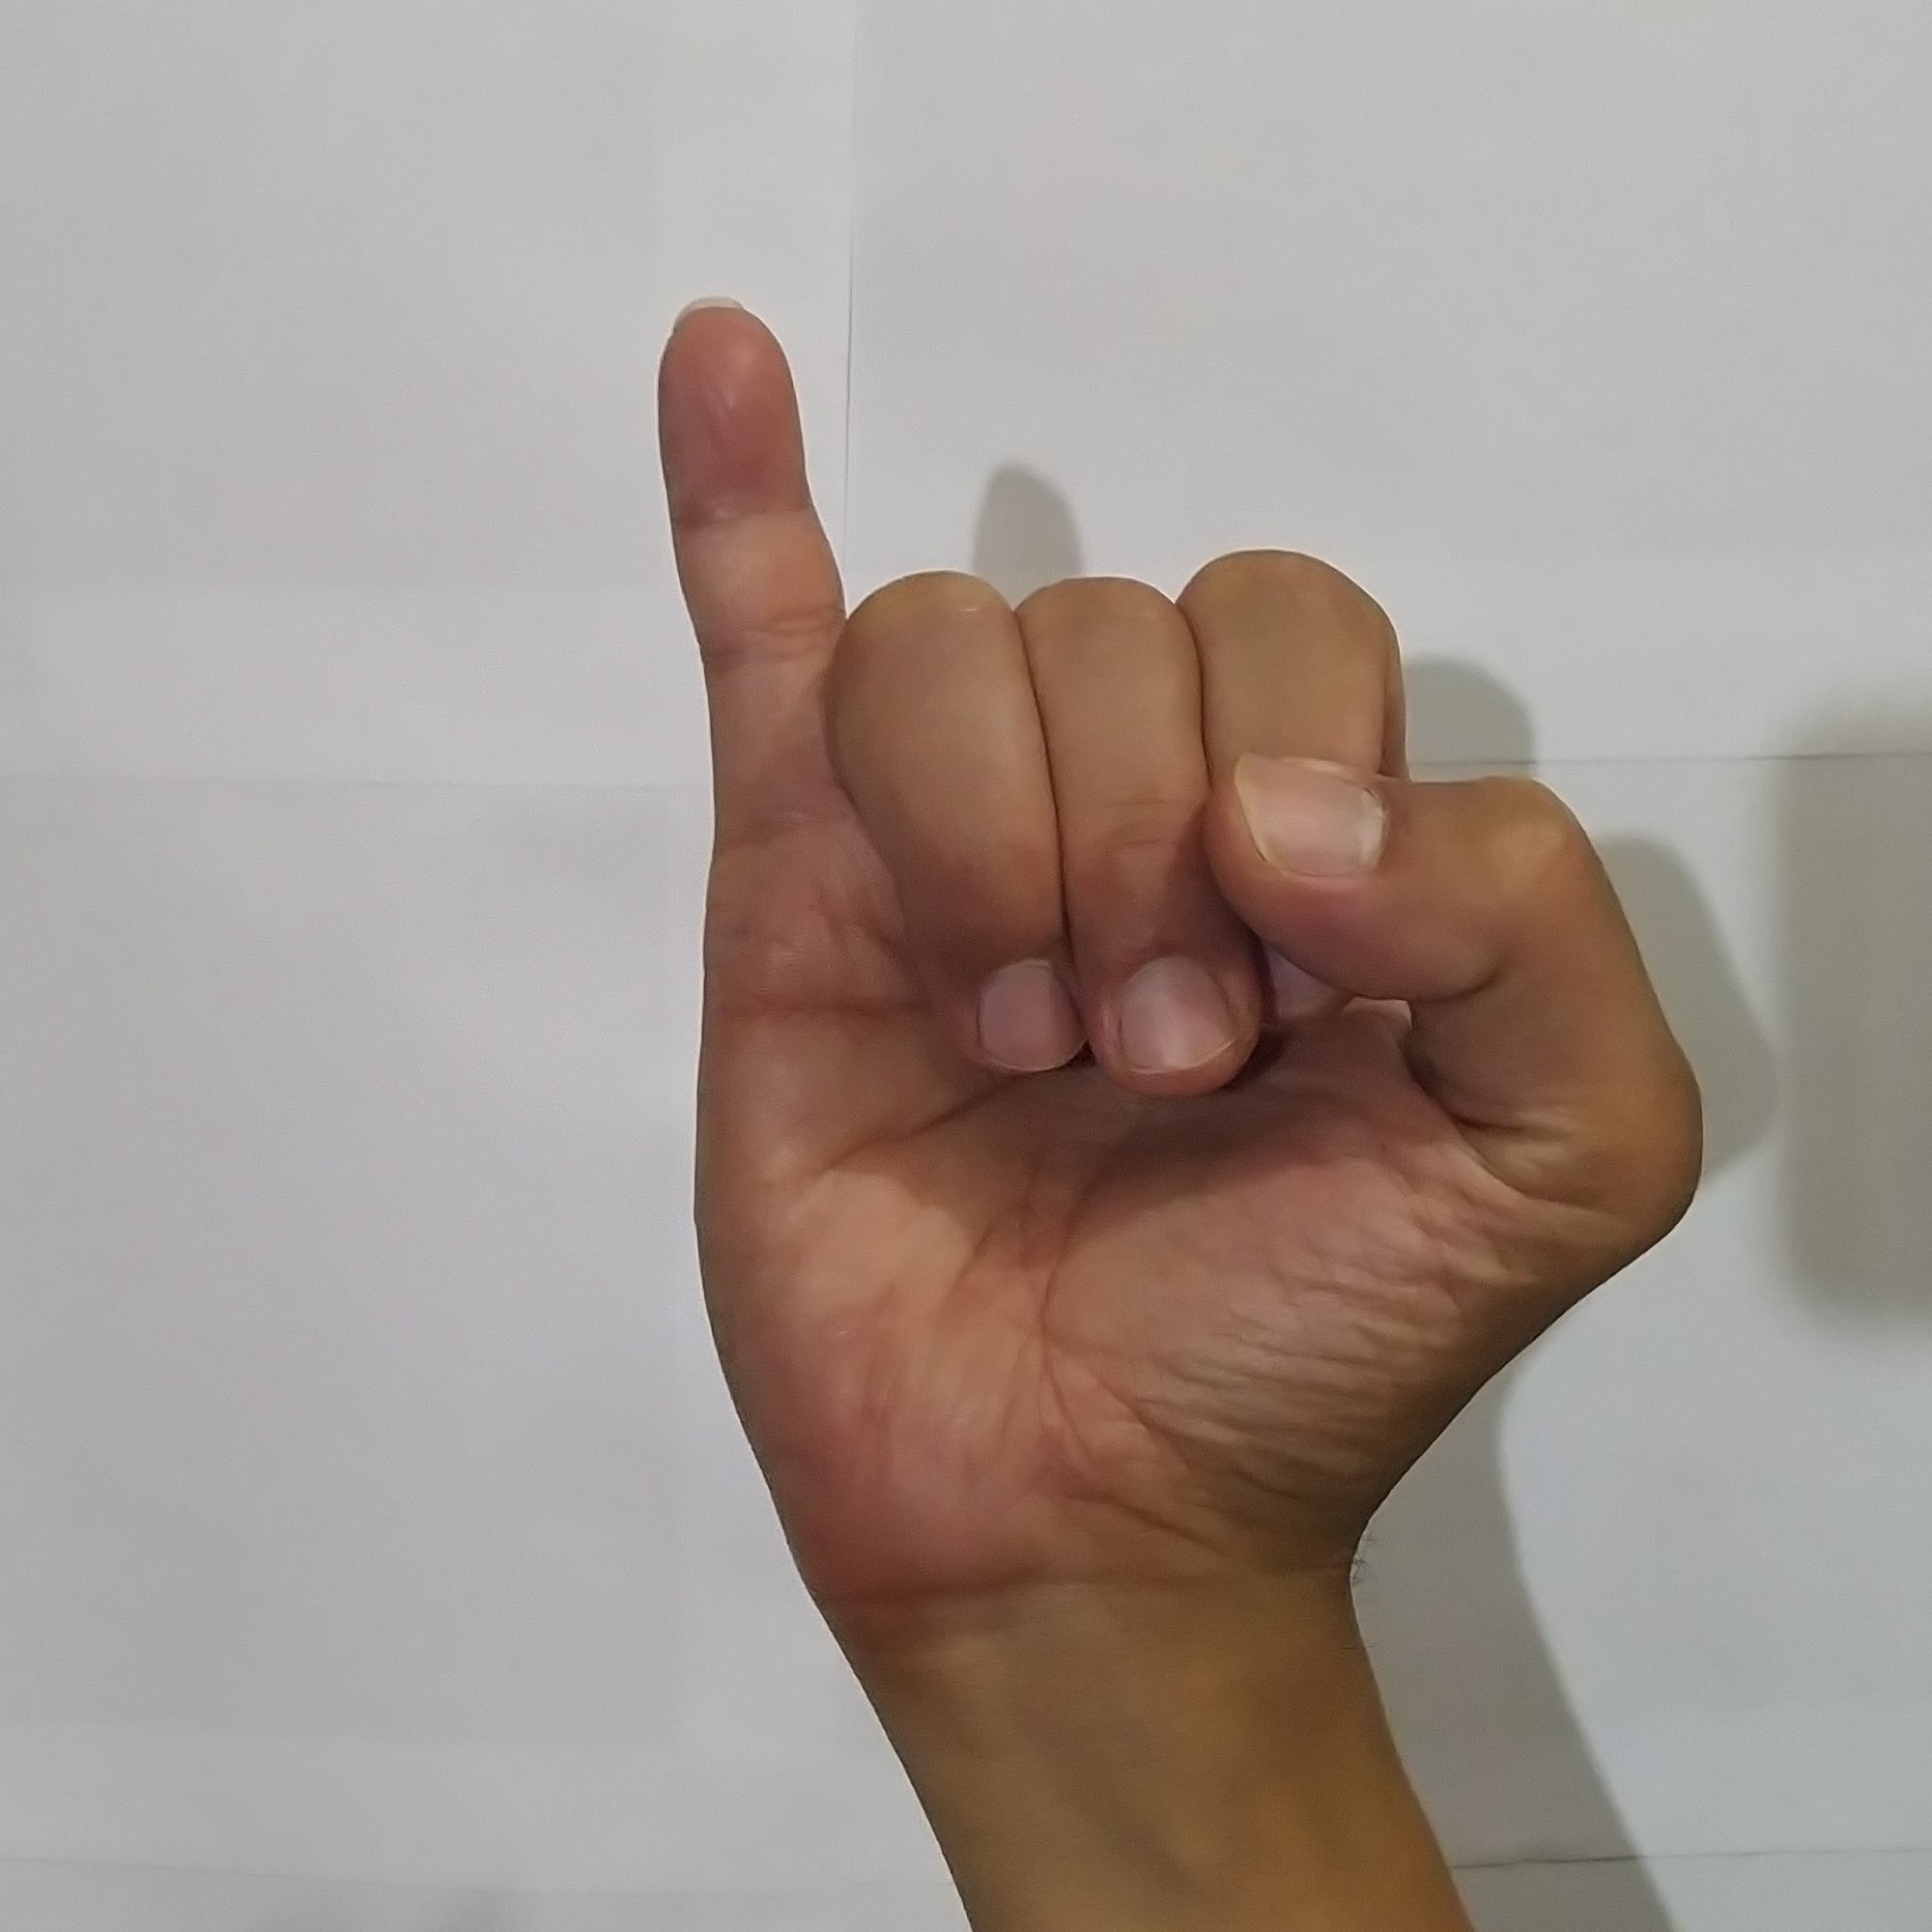I: (637, 281, 1723, 1553)
